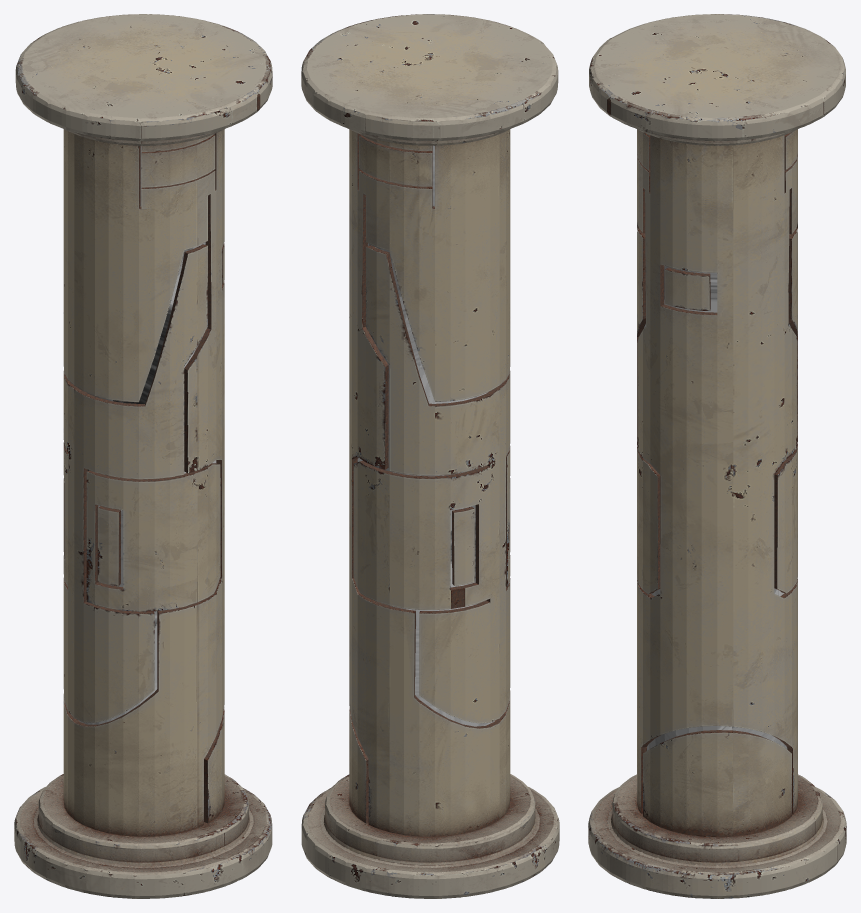
Rendered from cyberpunk_column.fbx.
3 views of the same model, side by side, from view 1: azimuth 30°, elevation 25°; view 2: azimuth 150°, elevation 25°; view 3: azimuth 270°, elevation 25° (orthographic).
Visible parts, largest first — view 1: Cylinder; view 2: Cylinder; view 3: Cylinder.
Boxes of the visible parts, x1,y1,x2,y2 form: Cylinder: (14, 14, 272, 898); Cylinder: (301, 14, 559, 898); Cylinder: (588, 14, 846, 898).
Size of the model in its own units: 128 by 427 by 128.
